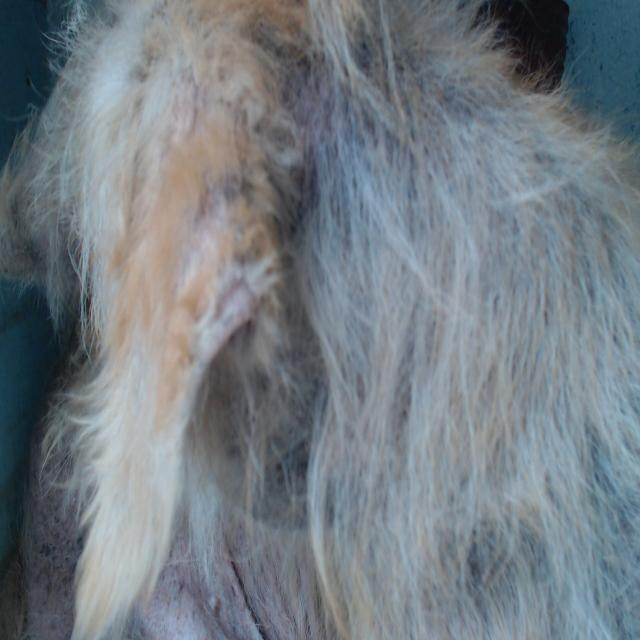demodicosis: (173, 548, 313, 640), (190, 260, 253, 345), (294, 80, 356, 163)
